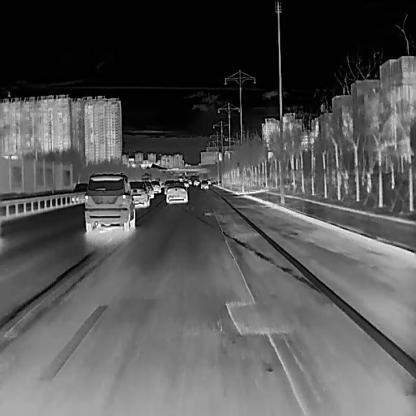car: (83, 172, 133, 231), (128, 180, 149, 208), (165, 181, 187, 203), (70, 182, 86, 201), (150, 178, 161, 192), (200, 178, 208, 188)
